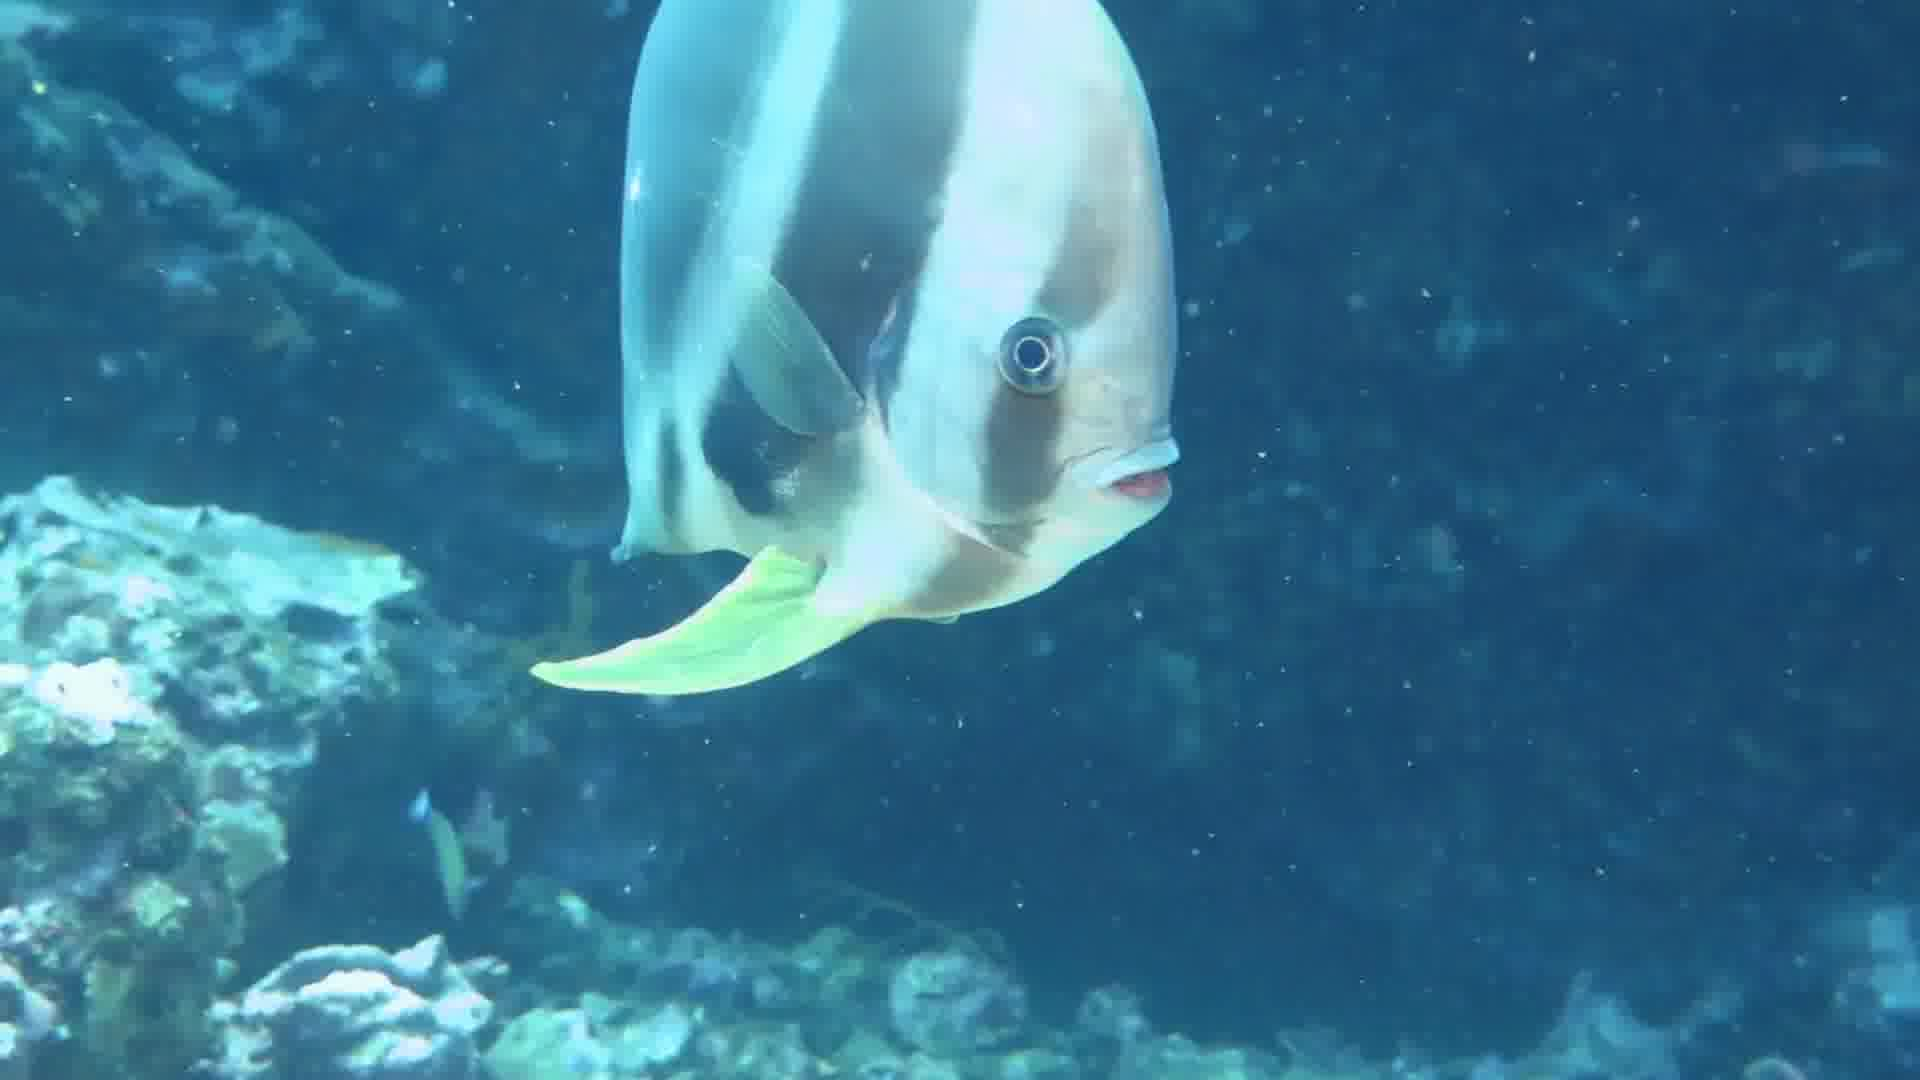Platax teira: (509, 1, 1232, 717)
